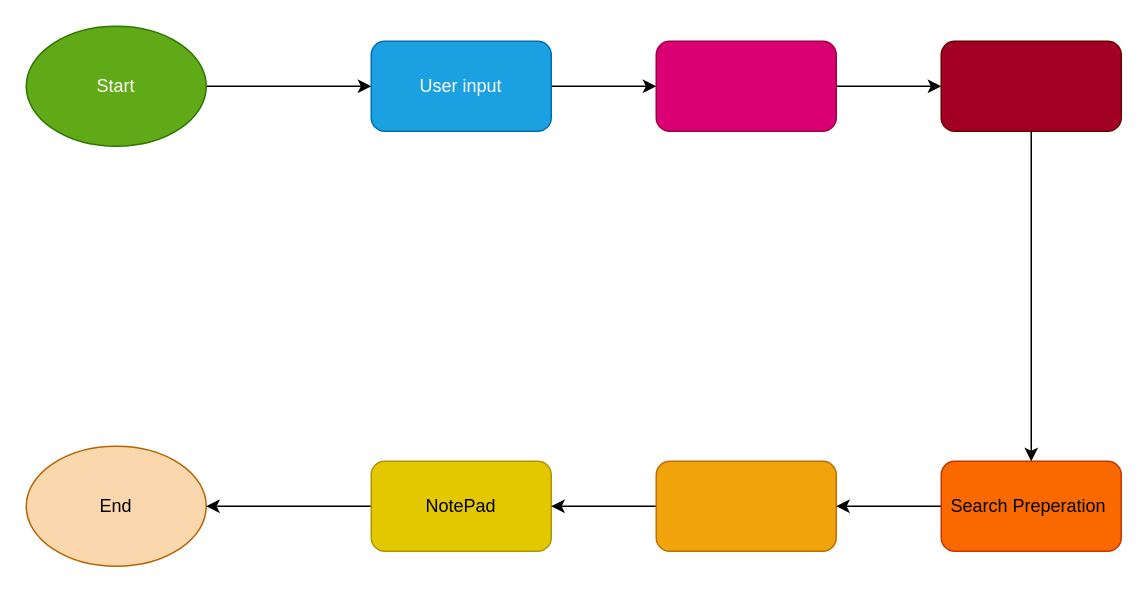
This 1148x593 diagram has some shape labels left out. The centre of each missing label's shape, as x and y in pixels:
Frist PlayList Click and get info: (x=745, y=505)
Youtube Search: (x=1030, y=85)
Yutube Open: (x=745, y=85)
